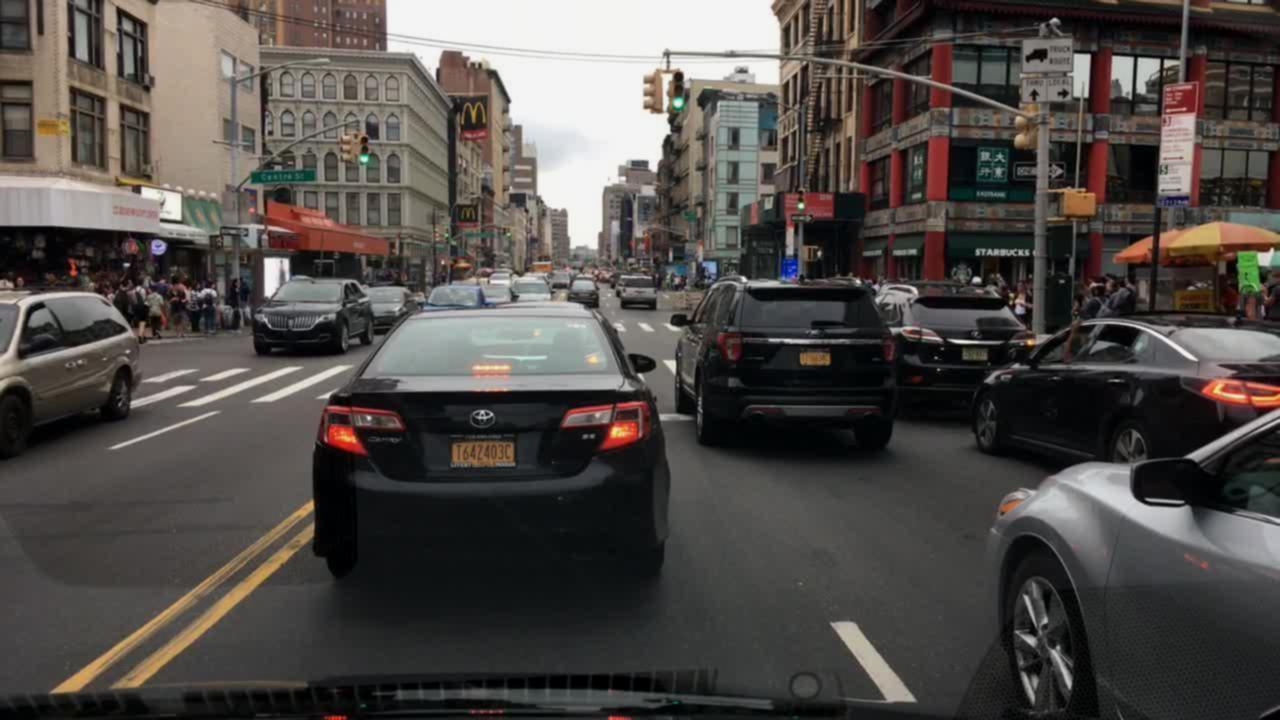Toyota: (462, 403, 504, 434)
lexus: (962, 324, 989, 341)
